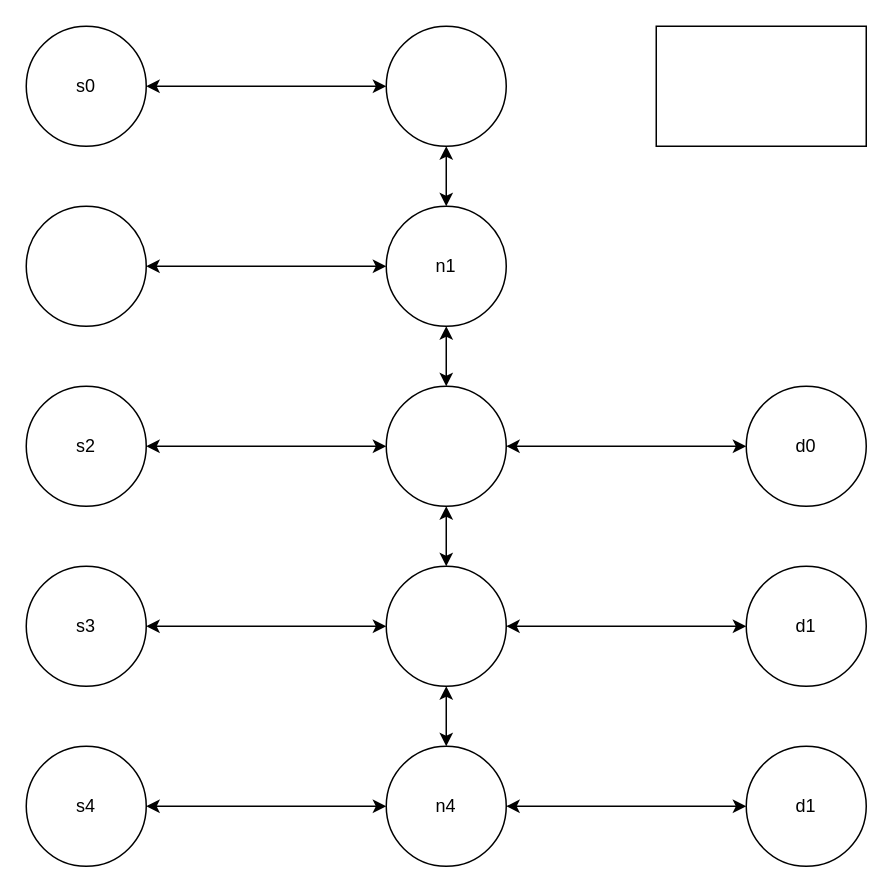
This 893x893 diagram has some shape labels left out. The shapes that lost their labels are listed below. From the top down, each one's box as (x1, y1, x2, y2) in pixels, then its label:
(385, 25, 506, 146): n0
(655, 25, 866, 146): sN -> StorageNode N nN -> Node N dN -> DeliveryNode N
(25, 205, 146, 326): s1
(385, 385, 506, 506): n2
(385, 565, 506, 686): n3
